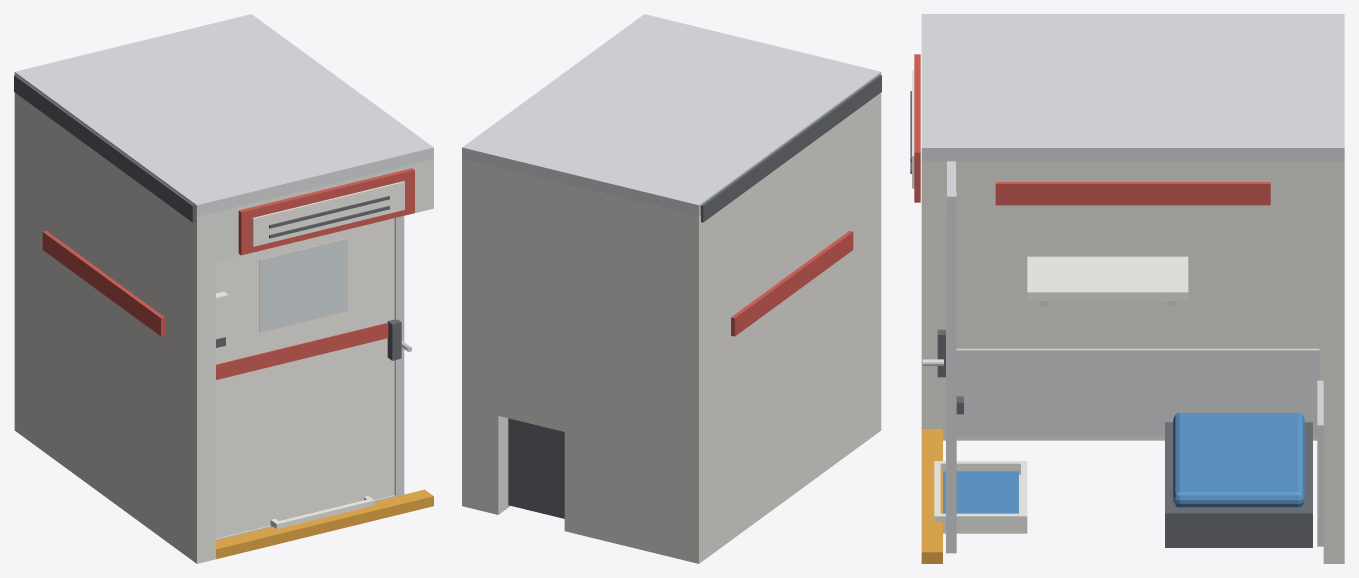
File: boarding-kennels-and-cattery-boarding-kennels-and-catt-babcbc91__35564.glb
3 views of the same model, side by side, from view 1: azimuth 30°, elevation 25°; view 2: azimuth 150°, elevation 25°; view 3: azimuth 270°, elevation 25° (orthographic). The views are drawn at different scales.
Visible parts, largest first — view 1: boarding-kennels-and-cattery-isolation-pen-module, pen-door-leaf/cream, pen-door-leaf/steel, pen-door-leaf/glass, pen-door-leaf/red, pen-door-leaf/charcoal; view 2: boarding-kennels-and-cattery-isolation-pen-module, pop-hatch/charcoal; view 3: boarding-kennels-and-cattery-isolation-pen-module, pen-door-leaf/steel, pen-door-leaf/charcoal.
Part boxes in pixels (<box>): boarding-kennels-and-cattery-isolation-pen-module: <box>14,14,433,563</box>; pen-door-leaf/cream: <box>216,218,394,538</box>; pen-door-leaf/steel: <box>216,216,411,540</box>; pen-door-leaf/glass: <box>264,244,343,326</box>; pen-door-leaf/red: <box>216,322,388,379</box>; pen-door-leaf/charcoal: <box>387,319,401,360</box>; boarding-kennels-and-cattery-isolation-pen-module: <box>462,14,881,563</box>; pop-hatch/charcoal: <box>508,418,564,518</box>; boarding-kennels-and-cattery-isolation-pen-module: <box>910,14,1344,563</box>; pen-door-leaf/steel: <box>922,161,956,553</box>; pen-door-leaf/charcoal: <box>937,329,963,414</box>.
Size of the model in its own units: 1.53 by 2.17 by 2.05.
